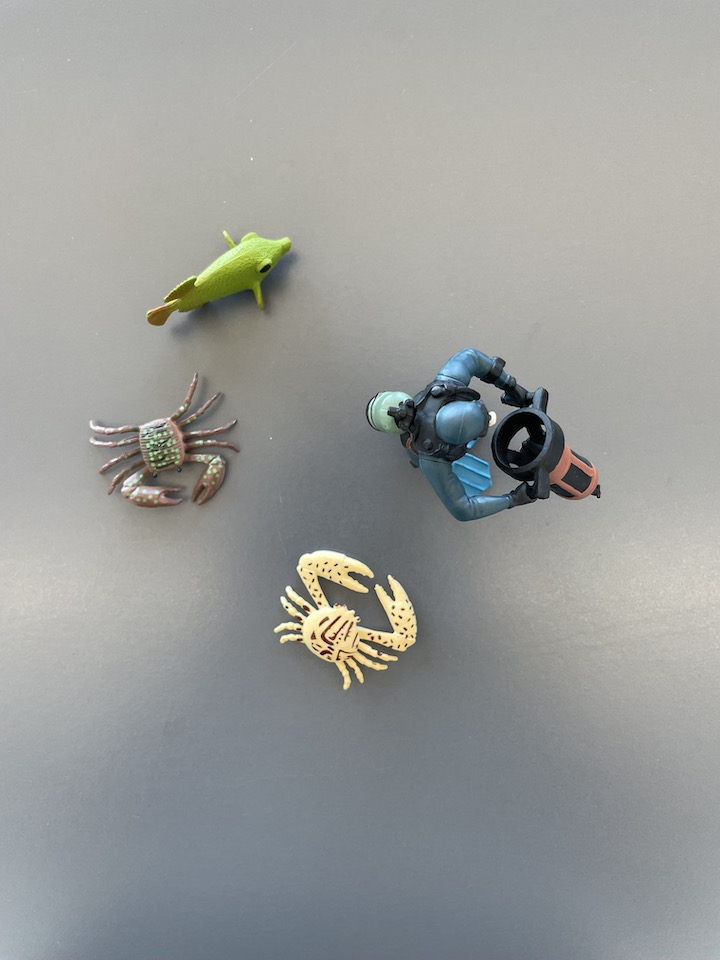crab: (81, 368, 245, 516), (268, 548, 425, 700)
diver: (360, 346, 611, 528)
fish: (139, 227, 298, 338)
